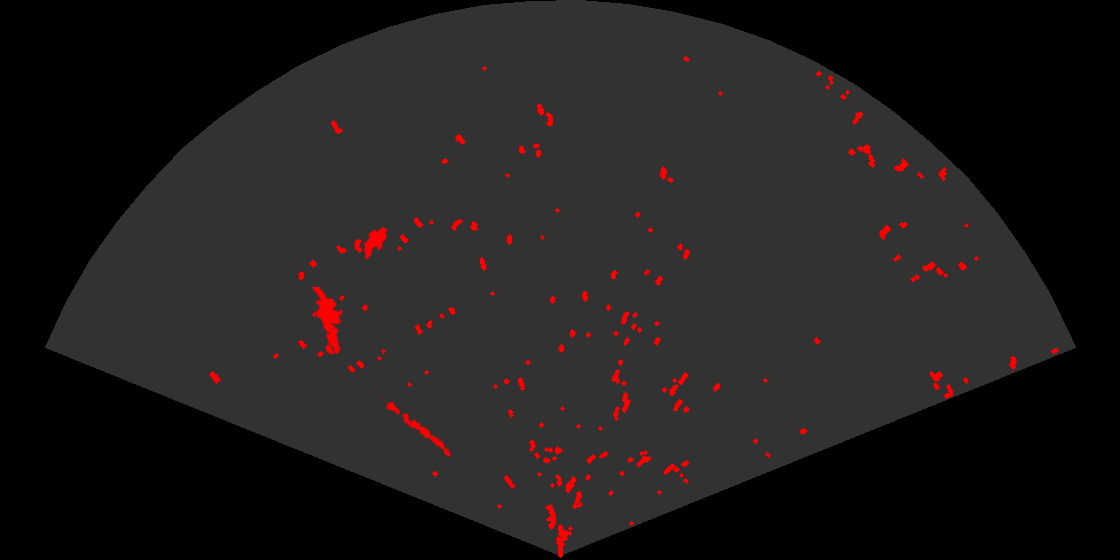AUV: (362, 225, 389, 261)
chain: (380, 395, 453, 459)
frogman: (310, 287, 345, 356)
